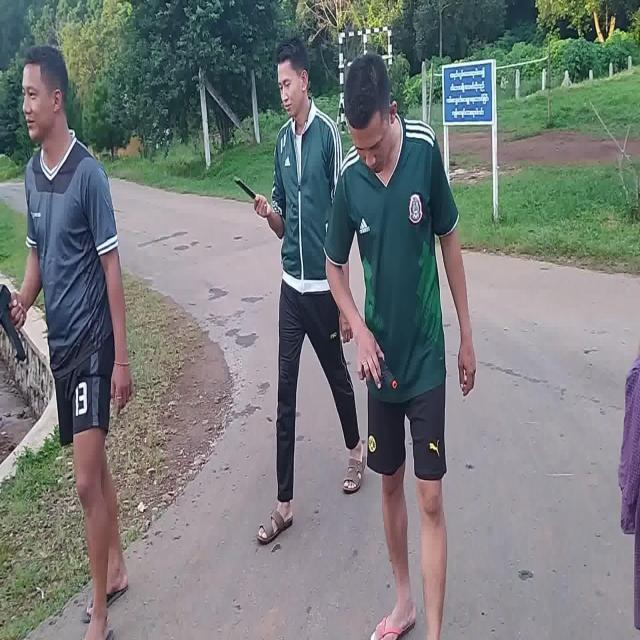gun: (1, 282, 27, 361), (362, 354, 398, 389)
